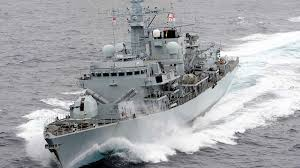tau_muctieu: (36, 16, 243, 161)
